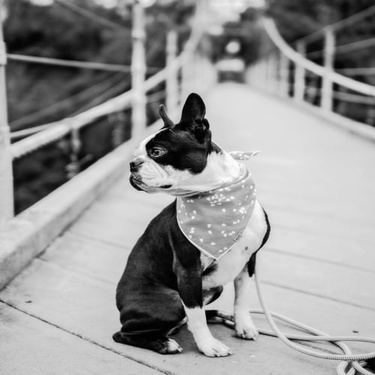dog: (108, 85, 274, 361)
